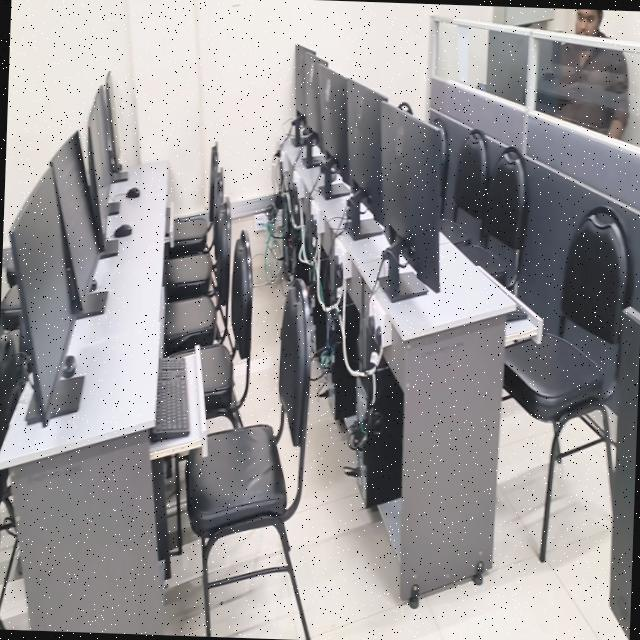Chair: (185, 280, 311, 640), (504, 333, 615, 561), (164, 202, 230, 356), (201, 230, 252, 428), (561, 207, 628, 345), (471, 146, 525, 289), (440, 129, 487, 245), (170, 144, 217, 254), (164, 252, 212, 302), (0, 337, 17, 444)
Cpu: (348, 358, 403, 508), (327, 309, 356, 423), (343, 294, 359, 366)
Keyboard: (150, 356, 189, 441)
Monitor: (10, 167, 75, 425), (380, 103, 442, 300), (50, 131, 101, 317), (87, 73, 126, 245), (346, 78, 386, 222), (318, 68, 347, 174), (301, 52, 327, 132), (295, 43, 315, 116)
Mouse: (62, 355, 75, 377), (113, 223, 132, 237), (126, 187, 139, 198)
